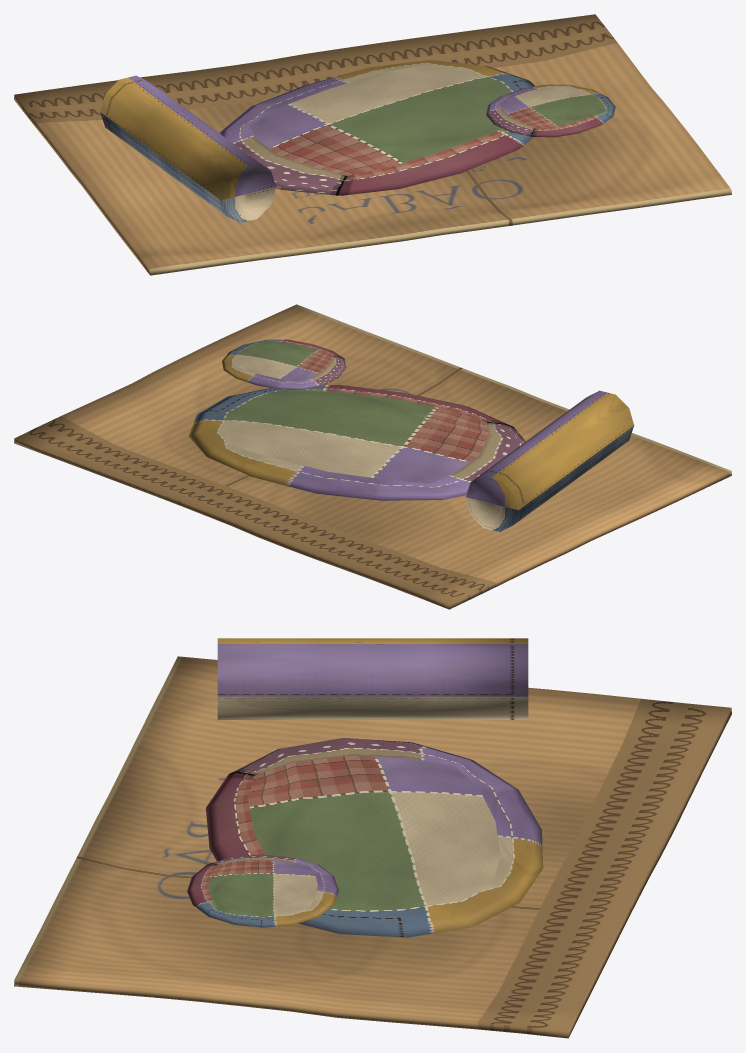
The model's file is cama_tika.gltf.
The picture shows the model from 3 angles, top to bottom: view 1: azimuth 30°, elevation 25°; view 2: azimuth 150°, elevation 25°; view 3: azimuth 270°, elevation 25°; orthographic projection. The views are drawn at different scales.
Parts seen in each view (by area): view 1: Papelao, Manta, Rolinho, PontaDobrada; view 2: Papelao, Manta, Rolinho, PontaDobrada; view 3: Papelao, Manta, Rolinho, PontaDobrada.
Part boxes in pixels (box(x1,y1,x2,y2)): Papelao: box(14, 14, 731, 275); Manta: box(219, 60, 534, 195); Rolinho: box(100, 75, 276, 223); PontaDobrada: box(486, 84, 615, 137); Papelao: box(14, 304, 731, 609); Manta: box(189, 384, 525, 500); Rolinho: box(465, 390, 634, 531); PontaDobrada: box(221, 339, 346, 389); Papelao: box(14, 656, 731, 1038); Manta: box(206, 738, 543, 937); Rolinho: box(217, 638, 528, 719); PontaDobrada: box(187, 854, 338, 927).
Bounding box in the file's own units: 0.9706 × 0.1237 × 0.7857.
3 materials, 3 textured.
